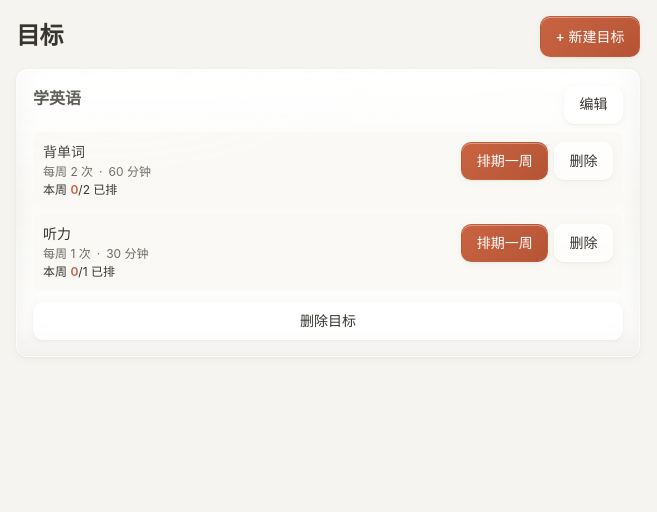
Test case: GoalView › 删除目标：确认条 → 确认后目标消失
Check: the heading "学英语" is shown, box x1=33 y1=86 x2=81 y2=110
Click the button "删除目标": (328, 321) x1=33 y1=302 x2=623 y2=340
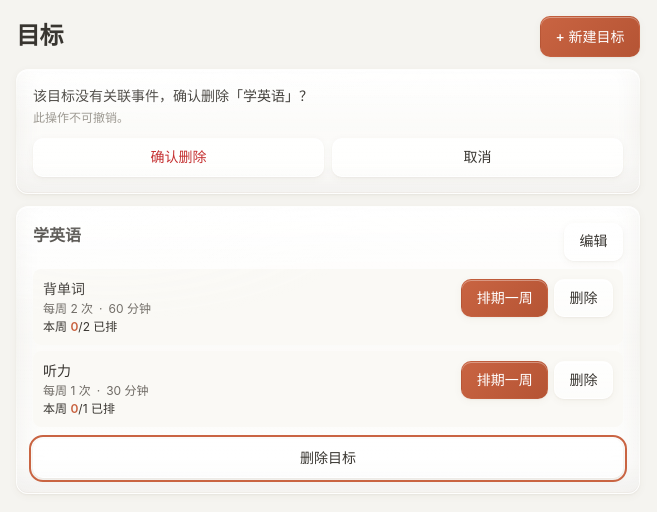
Check: the element with test id "goal-delete-confirm" is shown, box x1=16 y1=69 x2=640 y2=194
Click the button "确认删除": (178, 157) x1=33 y1=138 x2=324 y2=177
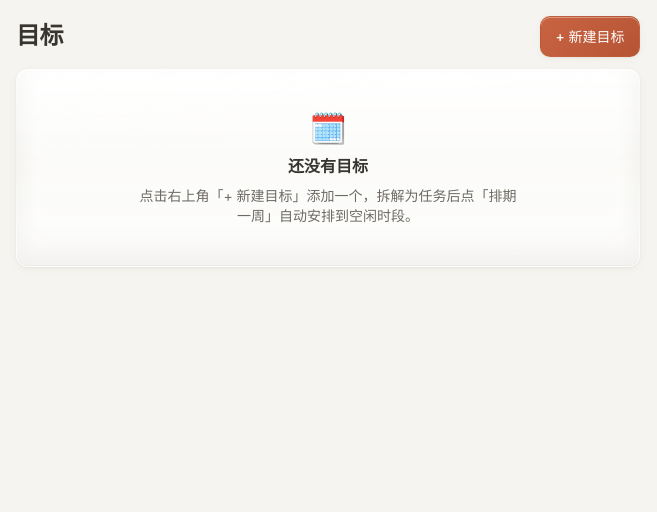
Check: the text "学英语" is gone
